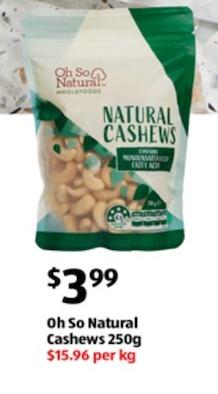description_block: (27, 311, 158, 351)
price_main: (38, 253, 134, 310)
product_image_block: (13, 10, 199, 263)
unit_price_block: (40, 344, 147, 376)
